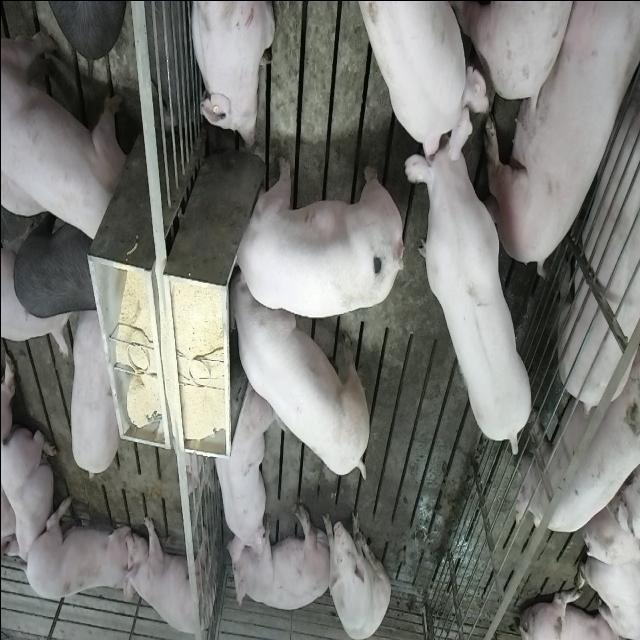Feeding: (228, 272, 374, 480), (224, 154, 399, 318)
Lateral_lying: (482, 0, 636, 272), (225, 500, 332, 611)
Sitting: (325, 502, 390, 637)
Standing: (409, 105, 535, 452), (553, 60, 640, 418), (1, 17, 126, 245), (517, 348, 640, 538), (356, 0, 493, 157), (122, 509, 210, 636), (64, 309, 118, 482), (11, 216, 97, 320)
Sternal_lying: (186, 0, 274, 150), (208, 378, 272, 557), (23, 498, 129, 606), (1, 426, 55, 572)
